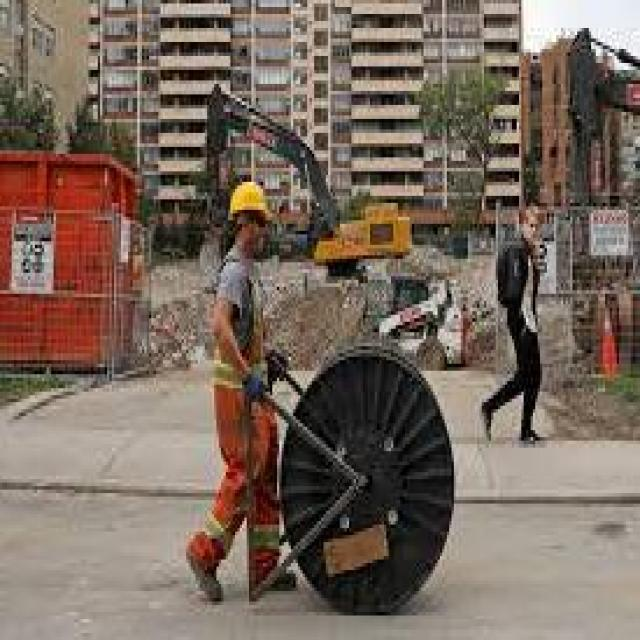Reflective-Jacket: (195, 252, 284, 440)
Safety-Helmet: (219, 168, 279, 238)
